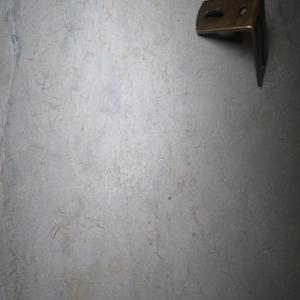MetalPart: (194, 0, 269, 88)
